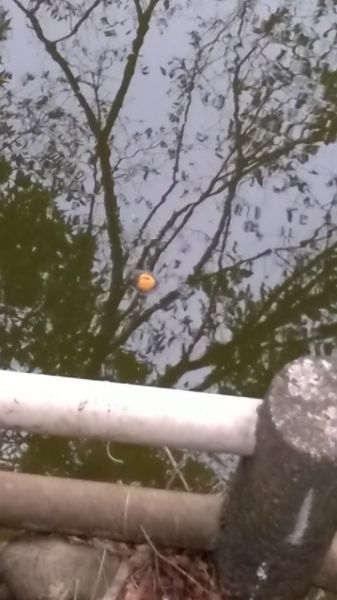eggs: (132, 268, 162, 295)
